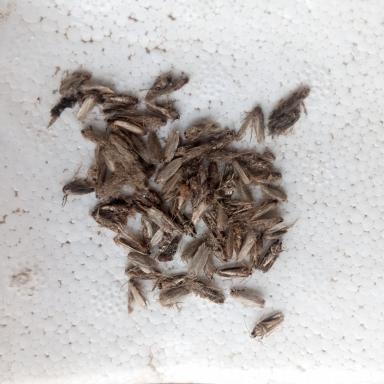pbw: (137, 202, 183, 237), (242, 310, 286, 345), (60, 166, 95, 206), (112, 222, 152, 256), (269, 87, 311, 119), (118, 278, 150, 316), (236, 106, 267, 145), (127, 130, 159, 166), (189, 279, 228, 305), (256, 237, 284, 273), (168, 208, 200, 238), (229, 286, 266, 310), (152, 157, 182, 186), (94, 173, 125, 201), (89, 209, 124, 233), (144, 74, 174, 102), (202, 231, 228, 263), (59, 70, 91, 96), (167, 182, 190, 218), (187, 242, 210, 278), (145, 100, 181, 122), (126, 251, 160, 274), (242, 200, 276, 222), (158, 76, 190, 98), (158, 287, 190, 308), (76, 91, 99, 120), (184, 121, 220, 139), (94, 198, 134, 214), (232, 157, 253, 187), (113, 118, 147, 136), (134, 184, 164, 204), (162, 129, 179, 164), (102, 93, 139, 109), (237, 230, 256, 261), (156, 272, 188, 290), (191, 198, 211, 225), (124, 265, 162, 279), (209, 132, 235, 152), (183, 142, 208, 162), (80, 129, 108, 146), (261, 185, 287, 202), (250, 216, 284, 229), (254, 171, 282, 186), (220, 266, 255, 277), (222, 170, 234, 202), (208, 160, 219, 190)
